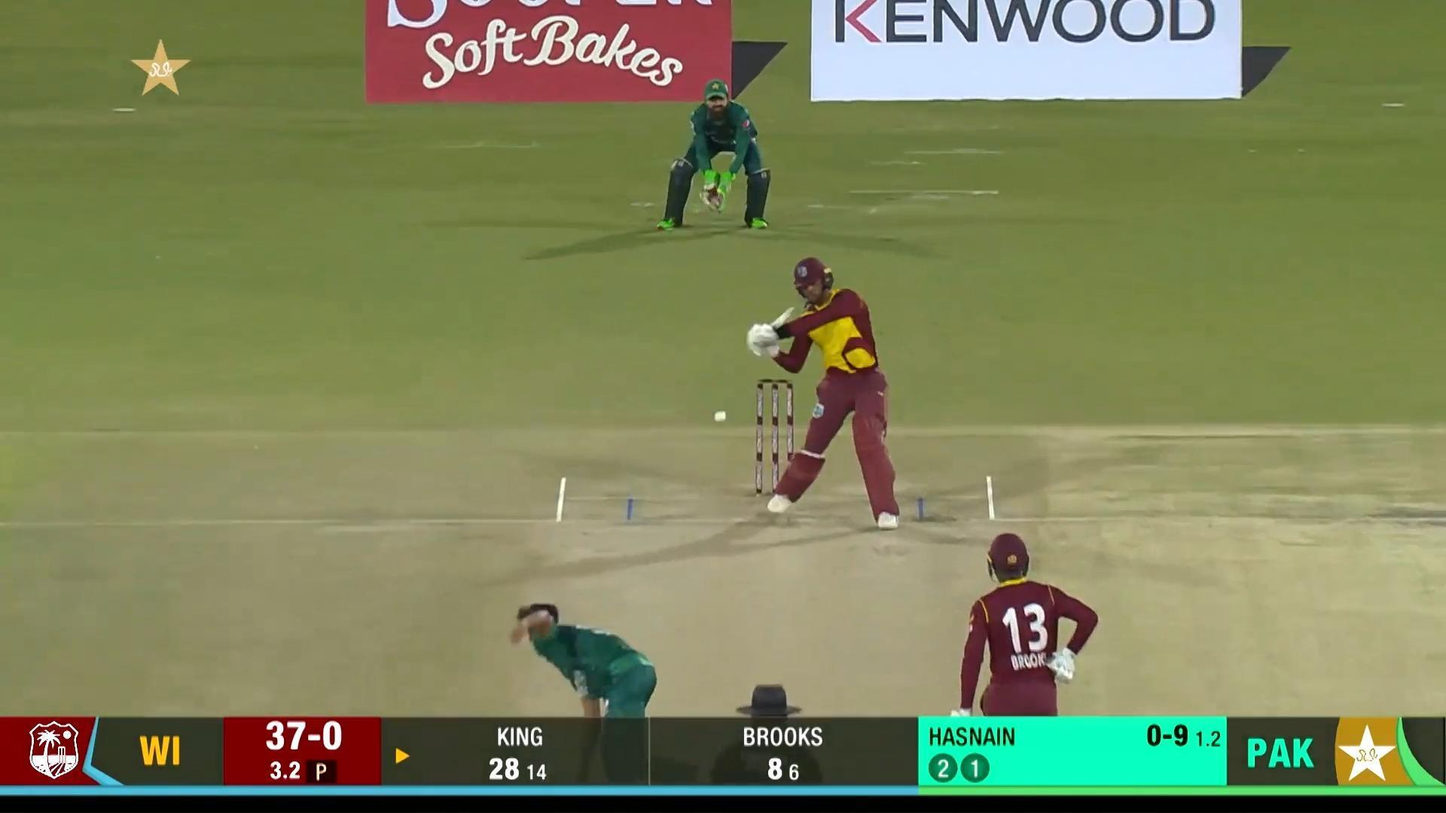BM 1: (746, 256, 900, 531)
BO: (506, 599, 702, 813)
